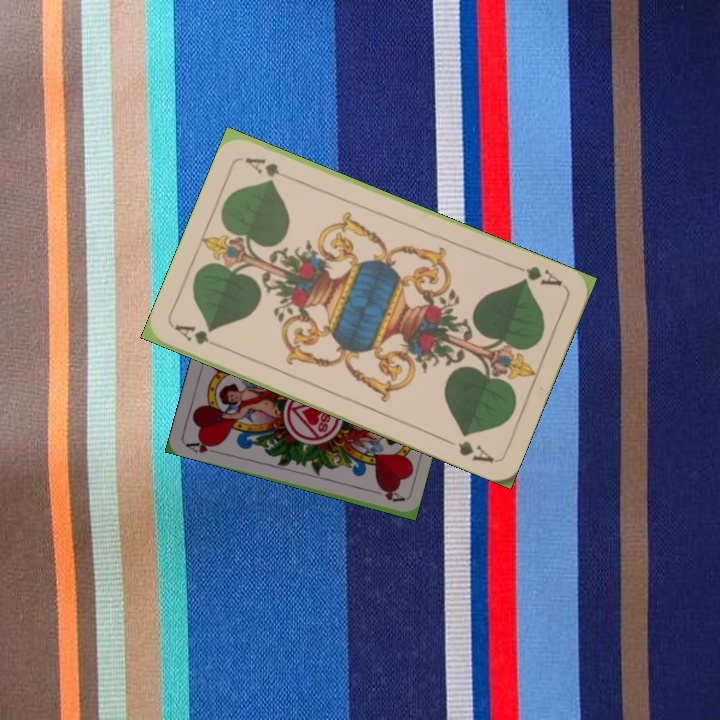GA: (509, 261, 565, 290), (170, 320, 213, 348)
HA: (182, 436, 222, 456)
